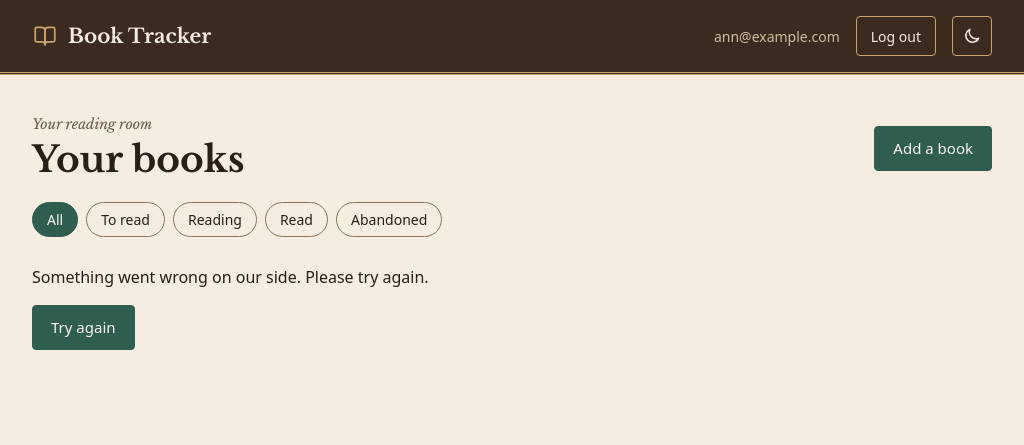
Scenario: books page › shows an error and retries on request
This screenshot has width=1024, height=445.
Expected: the message shows "Something went wrong on our side", [32,266,429,288]
What coordinates should you click on to do the following:
click the button "Try again"
I would click on:
 (83, 327)
Its box is [32,305,134,350].
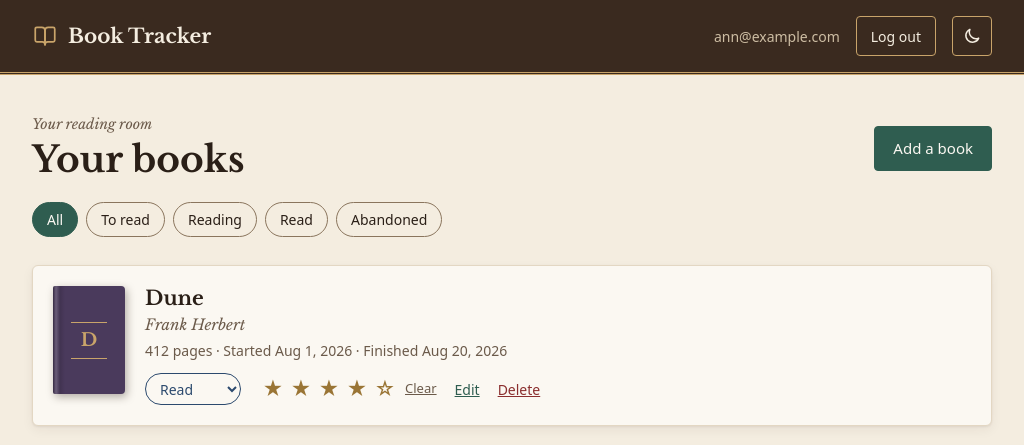
Expected: the heading "Dune" is shown, [145,286,204,310]
